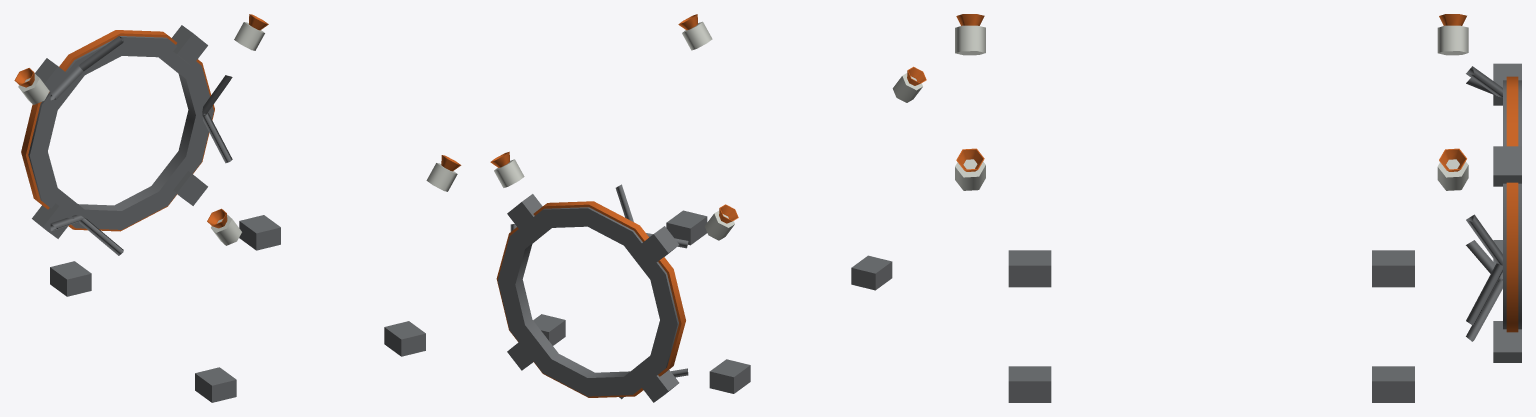
File: p20_separation.obj
The picture shows the model from 3 angles, left to right: view 1: azimuth 30°, elevation 25°; view 2: azimuth 150°, elevation 25°; view 3: azimuth 270°, elevation 25°; orthographic projection. The views are drawn at different scales.
Parts seen in each view (by area): view 1: p20_separation; view 2: p20_separation; view 3: p20_separation.
Boxes of the visible parts, x1,y1,x2,y2 form: p20_separation: (14,14,461,402); p20_separation: (490,14,926,402); p20_separation: (955,14,1521,402).
Bounding box in the file's own units: 3.03 × 2.56 × 4.76.
